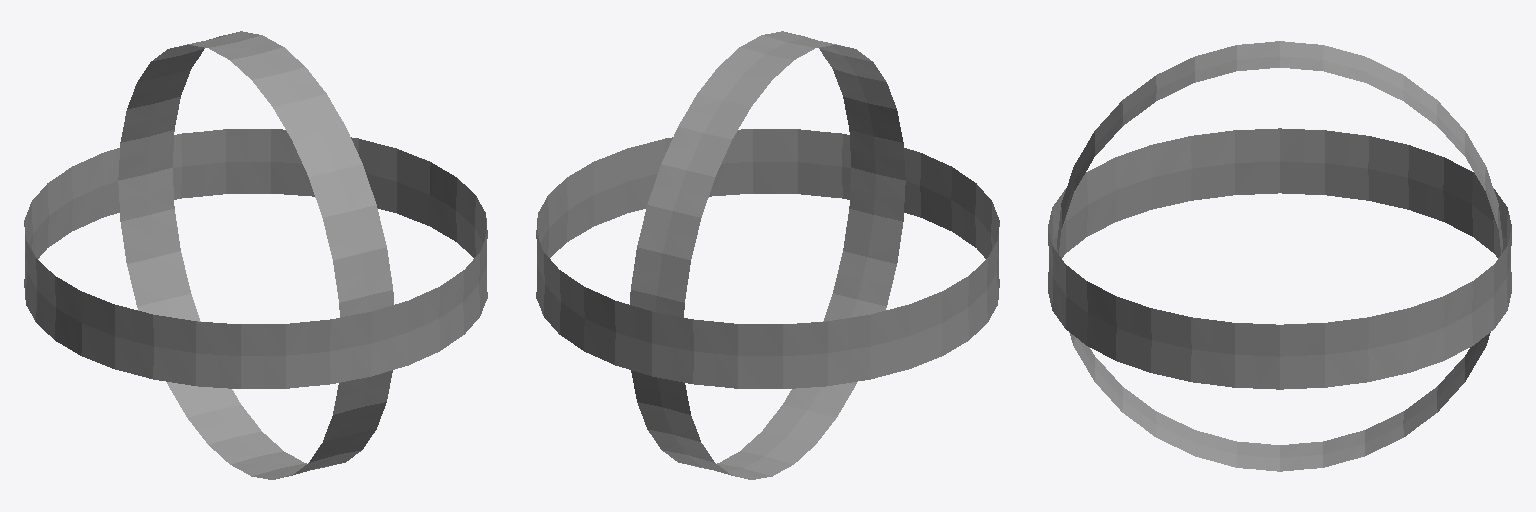
Rendered from ring.obj.
3 views of the same model, side by side, from view 1: azimuth 30°, elevation 25°; view 2: azimuth 150°, elevation 25°; view 3: azimuth 270°, elevation 25° (orthographic).
Visible parts, largest first — view 1: Sphere, Sphere.001; view 2: Sphere, Sphere.001; view 3: Sphere, Sphere.001.
Part boxes in pixels (x1,y1,x2,y2): Sphere: (24, 129, 487, 388); Sphere.001: (118, 31, 393, 479); Sphere: (536, 129, 999, 388); Sphere.001: (630, 31, 905, 479); Sphere: (1048, 128, 1511, 389); Sphere.001: (1057, 41, 1502, 471).
Bounding box in the file's own units: 10.07 × 9.67 × 10.07.